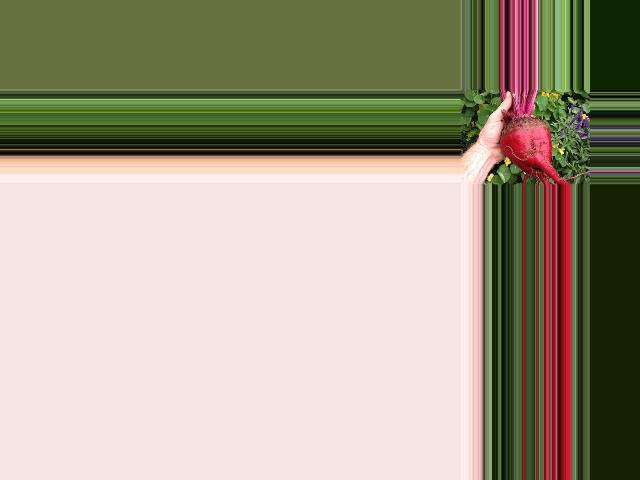beet: (500, 90, 570, 185)
